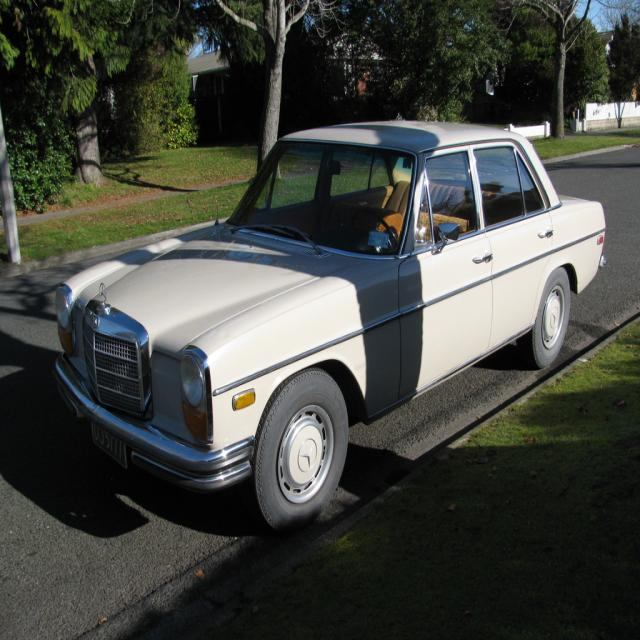car: (54, 117, 605, 531)
